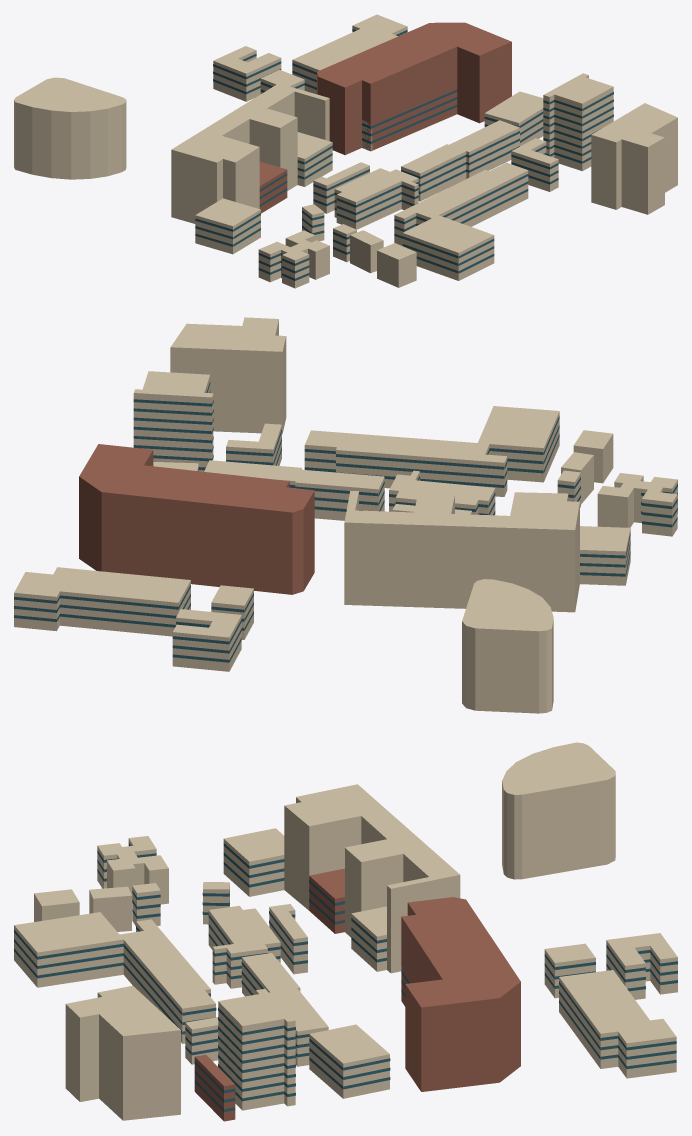
The model's file is city_8_-7.glb.
3 views of the same model, one above another, from view 1: azimuth 30°, elevation 25°; view 2: azimuth 150°, elevation 25°; view 3: azimuth 270°, elevation 25° (orthographic). The views are drawn at different scales.
Parts seen in each view (by area): view 1: city_8_-7; view 2: city_8_-7; view 3: city_8_-7.
Part boxes in pixels (x1=…): city_8_-7: x1=14, y1=14, x2=677, y2=288; city_8_-7: x1=14, y1=317, x2=677, y2=713; city_8_-7: x1=14, y1=742, x2=677, y2=1121.
Bounding box in the file's own units: 269 × 36 × 256.
